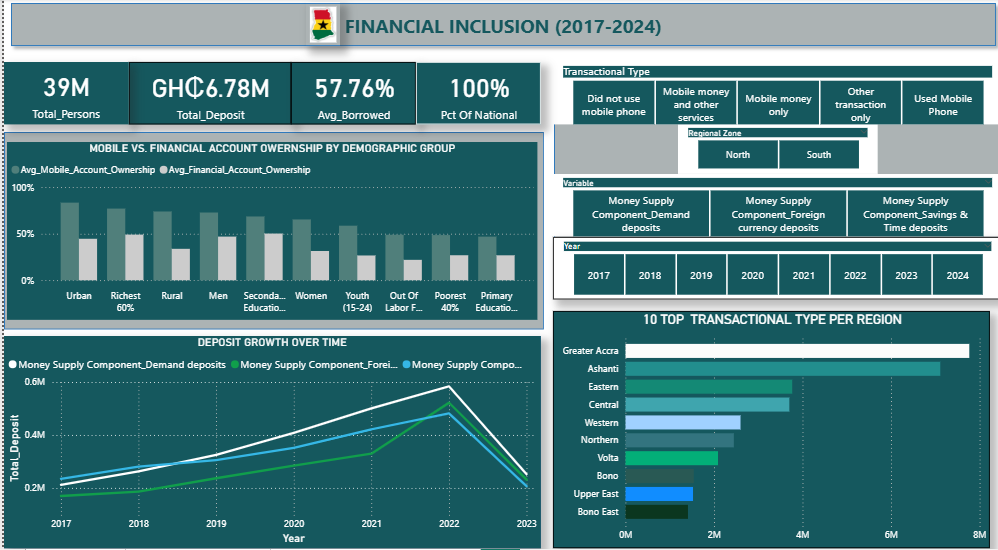

Layout of this report page (visuals, bound fields, positions):
{"tool":"powerbi","page":{"name":"OVERVIWE","canvas":[1280,720],"ordinal":0},"visuals":[{"type":"shape","box":[0,11.7,1280.5,73.2],"z":0},{"type":"shape","box":[0,448,688,272],"z":1000},{"type":"lineChart","title":"DEPOSIT GROWTH OVER TIME","fields":{"Category":["financial_inclusion db money_supply.Year"],"Y":["financial_inclusion db money_supply.Total_Deposit"],"Series":["financial_inclusion db money_supply.Variable"]},"box":[0,448,688,272],"z":2000},{"type":"shape","box":[705.4,98,575.1,300],"z":3000},{"type":"clusteredBarChart","title":"10 TOP  TRANSACTIONAL TYPE PER REGION","fields":{"Category":["financial_inclusion db interest_rate.Region"],"Y":["financial_inclusion db interest_rate.Total_Mobile_Users"]},"box":[704,416,560,304],"z":4000},{"type":"card","fields":{"Values":["financial_inclusion db money_supply.Total_Deposit"]},"box":[160,96,208,80],"z":5000},{"type":"shape","box":[0,185.9,692.2,253.2],"z":6000},{"type":"card","fields":{"Values":["financial_inclusion db interest_rate.Total_Mobile_Users"]},"box":[0,96,160,80],"z":7000},{"type":"slicer","fields":{"Values":["financial_inclusion db money_supply.Variable"]},"box":[704,240,576,80],"z":8000},{"type":"slicer","fields":{"Values":["financial_inclusion db interest_rate.Regional Zone"]},"box":[864,176,256,64],"z":9000},{"type":"image","box":[387.8,19,43.9,57.1],"z":10000},{"type":"slicer","fields":{"Values":["financial_inclusion db interest_rate.Transactional Type"]},"box":[704,96,576,80],"z":11000},{"type":"slicer","fields":{"Values":["YearTable.Year"]},"box":[704,320,576,80],"z":12000},{"type":"clusteredColumnChart","title":"MOBILE VS. FINANCIAL ACCOUNT OWERNSHIP BY DEMOGRAPHIC GROUP","fields":{"Category":["financial_inclusion db mobile_money.Demographic Group"],"Y":["financial_inclusion db mobile_money.Avg_Mobile_Account_Ownership","financial_inclusion db mobile_money.Avg_Financial_Account_Ownership"]},"box":[4.4,199,680.5,228.3],"z":13000},{"type":"card","fields":{"Values":["financial_inclusion db mobile_money.Avg_Borrowed"]},"box":[368,96,160,80],"z":14000},{"type":"card","fields":{"Values":["financial_inclusion db interest_rate.PctOfNational"]},"box":[528,96,160,80],"z":15000}]}

Visuals, with their boxes in screenshot pixels (x1, y1, x2, y2), scaled from the page's 1280x720 canvas onto the 998x550 screenshot:
shape: l=0, t=9, r=997, b=65
shape: l=0, t=342, r=536, b=549
"DEPOSIT GROWTH OVER TIME" lineChart: l=0, t=342, r=536, b=549
shape: l=550, t=75, r=997, b=304
"10 TOP  TRANSACTIONAL TYPE PER REGION" clusteredBarChart: l=549, t=318, r=986, b=549
card - financial_inclusion db money_supply.Total_Deposit: l=125, t=73, r=287, b=134
shape: l=0, t=142, r=540, b=335
card - financial_inclusion db interest_rate.Total_Mobile_Users: l=0, t=73, r=125, b=134
slicer - financial_inclusion db money_supply.Variable: l=549, t=183, r=997, b=244
slicer - financial_inclusion db interest_rate.Regional Zone: l=674, t=134, r=873, b=183
image: l=302, t=15, r=337, b=58
slicer - financial_inclusion db interest_rate.Transactional Type: l=549, t=73, r=997, b=134
slicer - YearTable.Year: l=549, t=244, r=997, b=306
"MOBILE VS. FINANCIAL ACCOUNT OWERNSHIP BY DEMOGRAPHIC GROUP" clusteredColumnChart: l=3, t=152, r=534, b=326
card - financial_inclusion db mobile_money.Avg_Borrowed: l=287, t=73, r=412, b=134
card - financial_inclusion db interest_rate.PctOfNational: l=412, t=73, r=536, b=134
